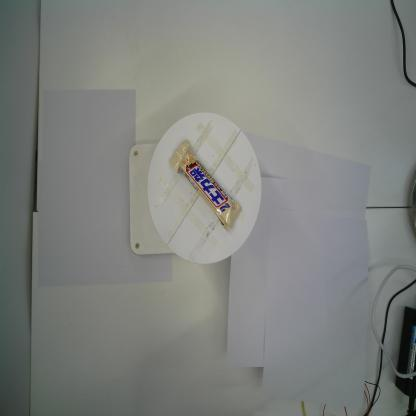Chocolate: (169, 139, 242, 232)
